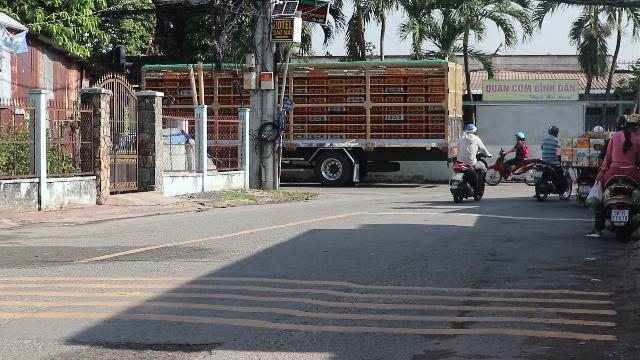helmet: (613, 114, 629, 131), (626, 113, 638, 131)
licenseplate: (612, 210, 628, 220)
motorcyclist: (586, 113, 640, 241)
